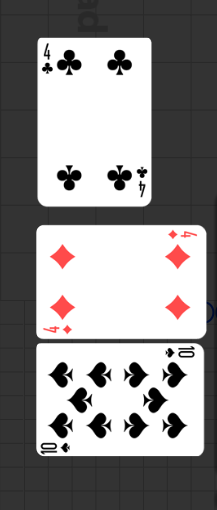10S: (40, 441, 73, 455)
4C: (41, 42, 55, 77)
4D: (166, 228, 198, 241)
